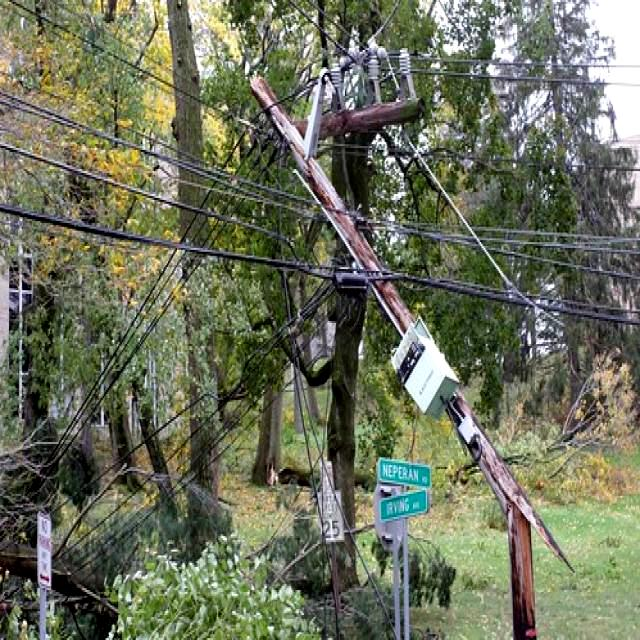Broken Pole: (254, 38, 575, 640)
